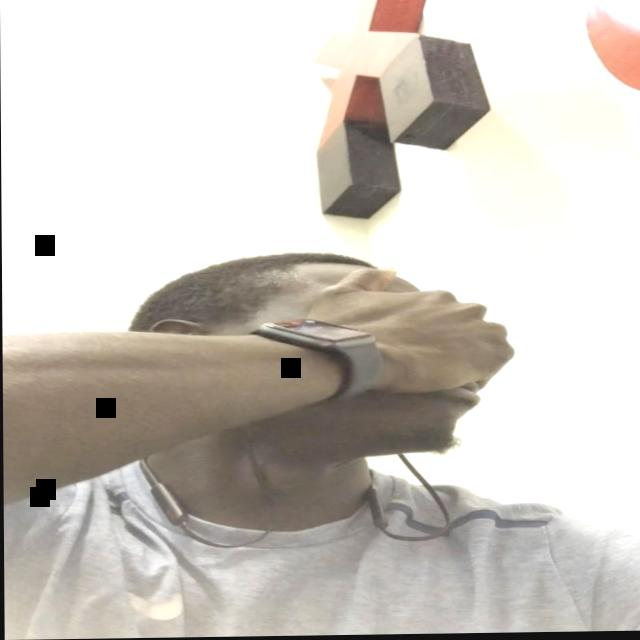NO-Mask: (202, 267, 483, 458)
